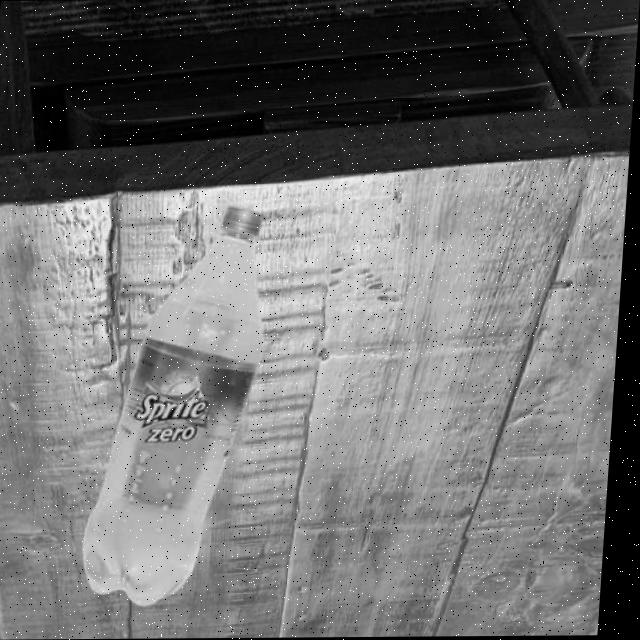bottle: (86, 207, 277, 608)
